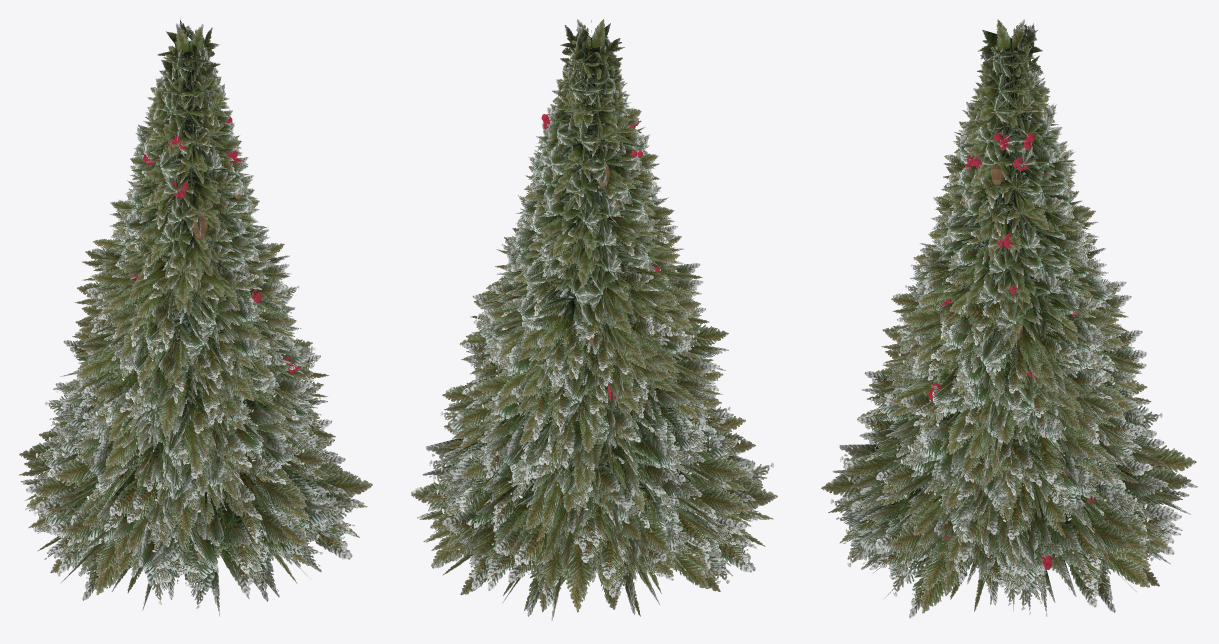
File: frasin-180.glb
3 renders of one model, left to right at view 1: azimuth 30°, elevation 25°; view 2: azimuth 150°, elevation 25°; view 3: azimuth 270°, elevation 25°, orthographic. The views are drawn at different scales.
Parts seen in each view (by area): view 1: brad; view 2: brad; view 3: brad.
Part boxes in pixels (x1,y1,x2,y2): brad: [19, 18, 372, 616]; brad: [411, 19, 777, 620]; brad: [821, 19, 1197, 618].
Bounding box in the file's own units: 1.11 × 1.8 × 1.15.
Materials: 2 (1 with a texture image).
